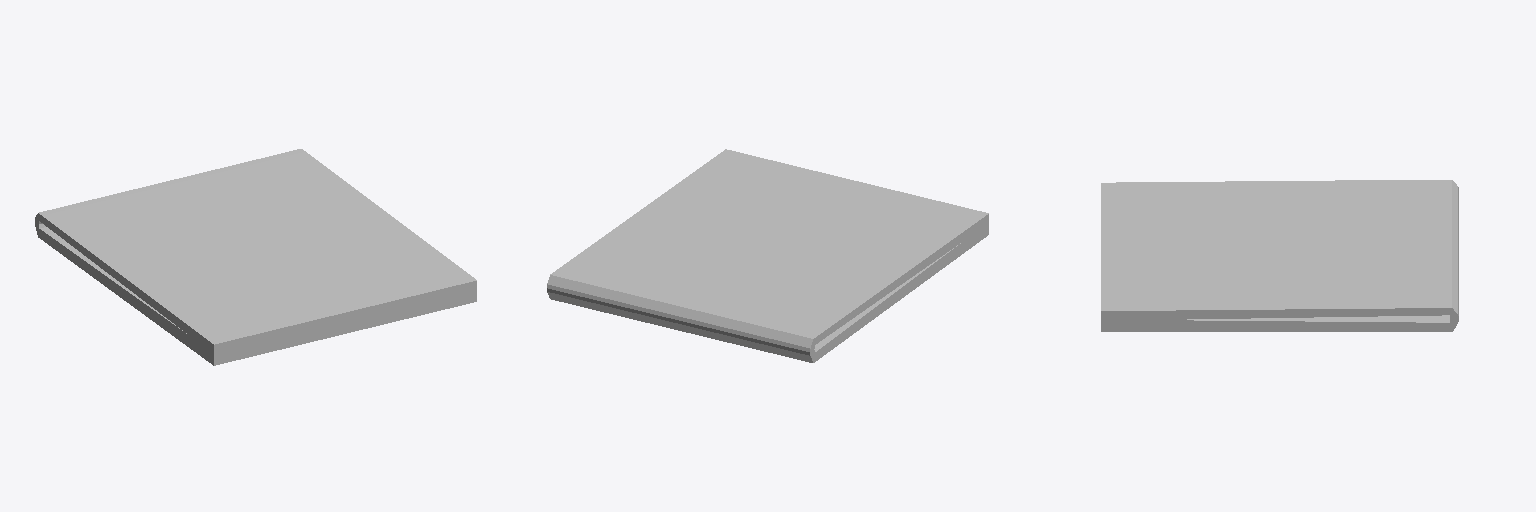
The model's file is Newspaper.obj.
3 views of the same model, side by side, from view 1: azimuth 30°, elevation 25°; view 2: azimuth 150°, elevation 25°; view 3: azimuth 270°, elevation 25° (orthographic).
Parts seen in each view (by area): view 1: Newspaper; view 2: Newspaper; view 3: Newspaper.
Boxes of the visible parts, box(x1,y1,x2,y2) form: Newspaper: box(35, 149, 476, 365); Newspaper: box(547, 149, 988, 362); Newspaper: box(1101, 180, 1458, 331).
Bounding box in the file's own units: 0.9987 × 0.0885 × 1.18.